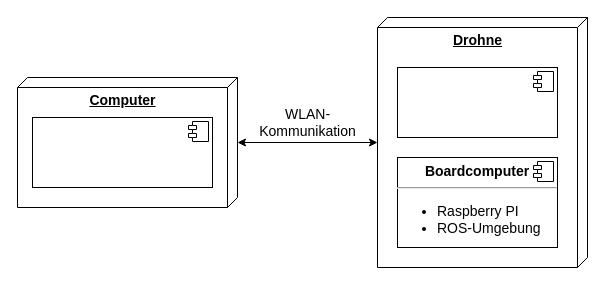
Some shapes in this 605 by 285 pixel diagram are drawn without their labels. The box of each missing label's shape, as (x1, y1, x2, y2) in pixels:
Bodenstation QGroundControl: (32, 116, 212, 188)
Flugcontroller Pixhawk: (396, 66, 558, 138)
